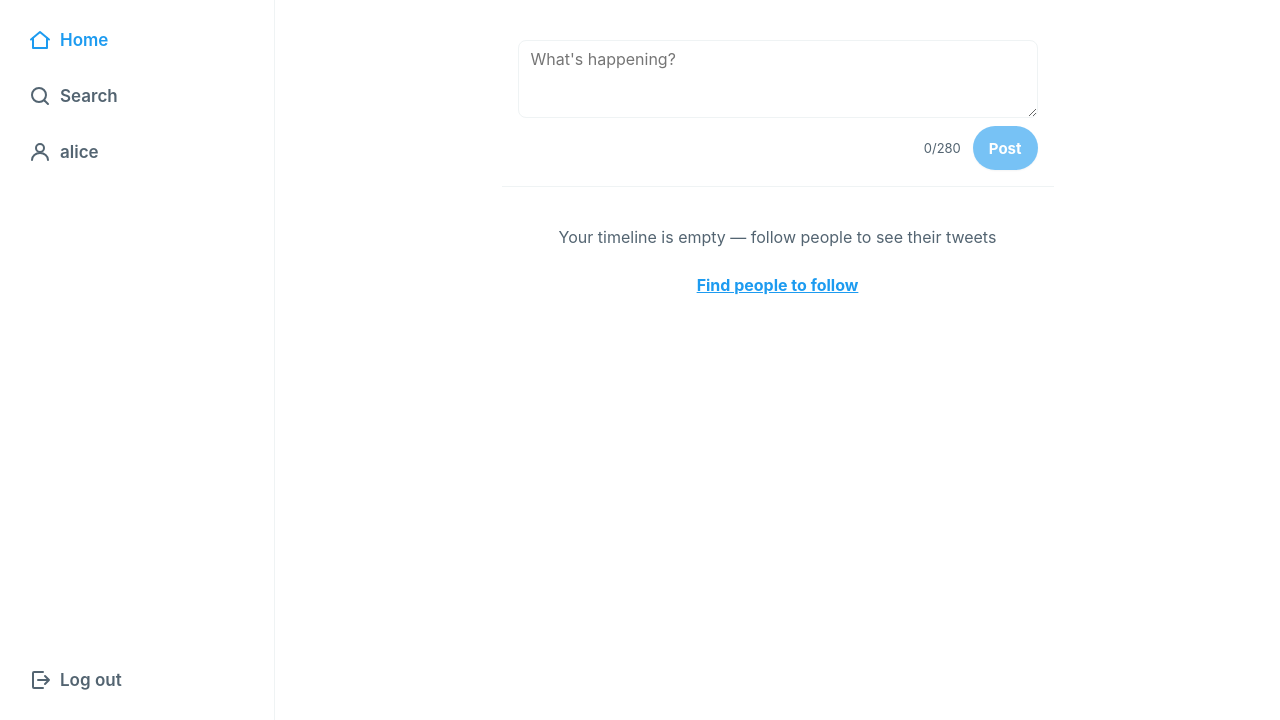
compose tweet › posts a tweet and shows it at the top of the timeline
In the text box named "tweet content": (778, 79) [518, 40, 1038, 118], type "Hello, Flock!"
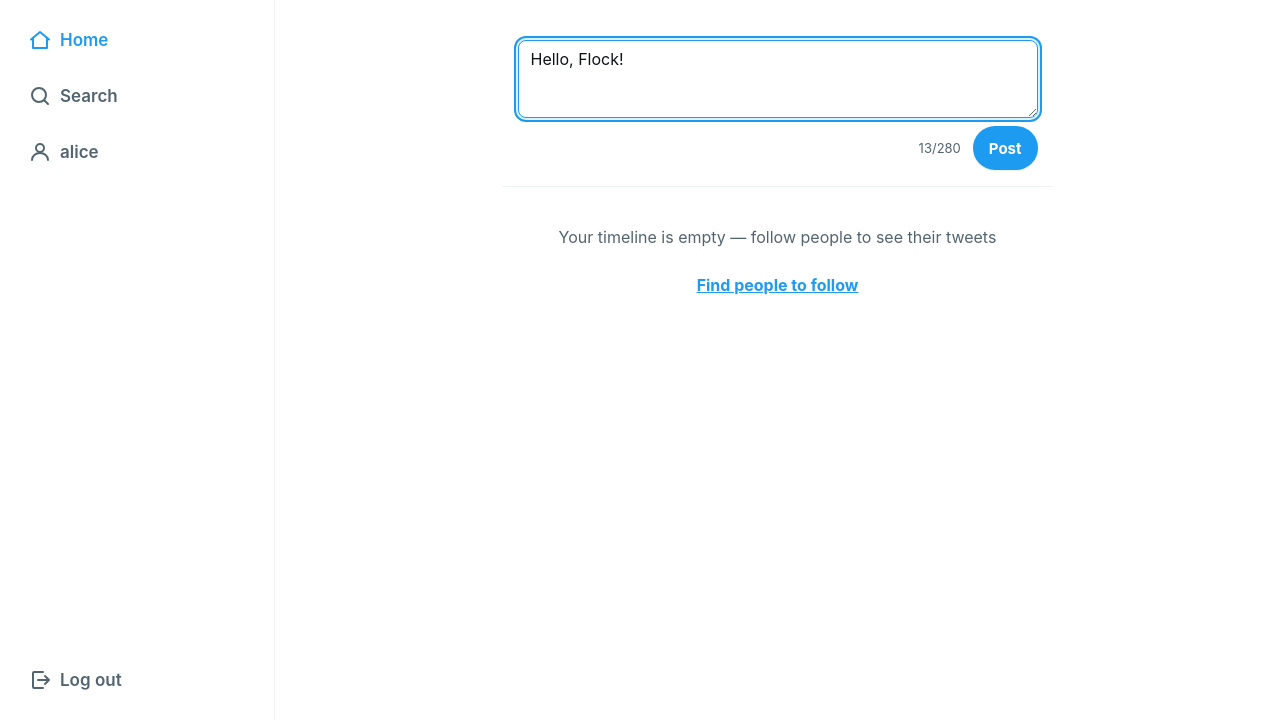
Expected: the text "13/280" is shown, [919, 140, 961, 156]
Click the button "Post": (1005, 148) [973, 126, 1038, 170]
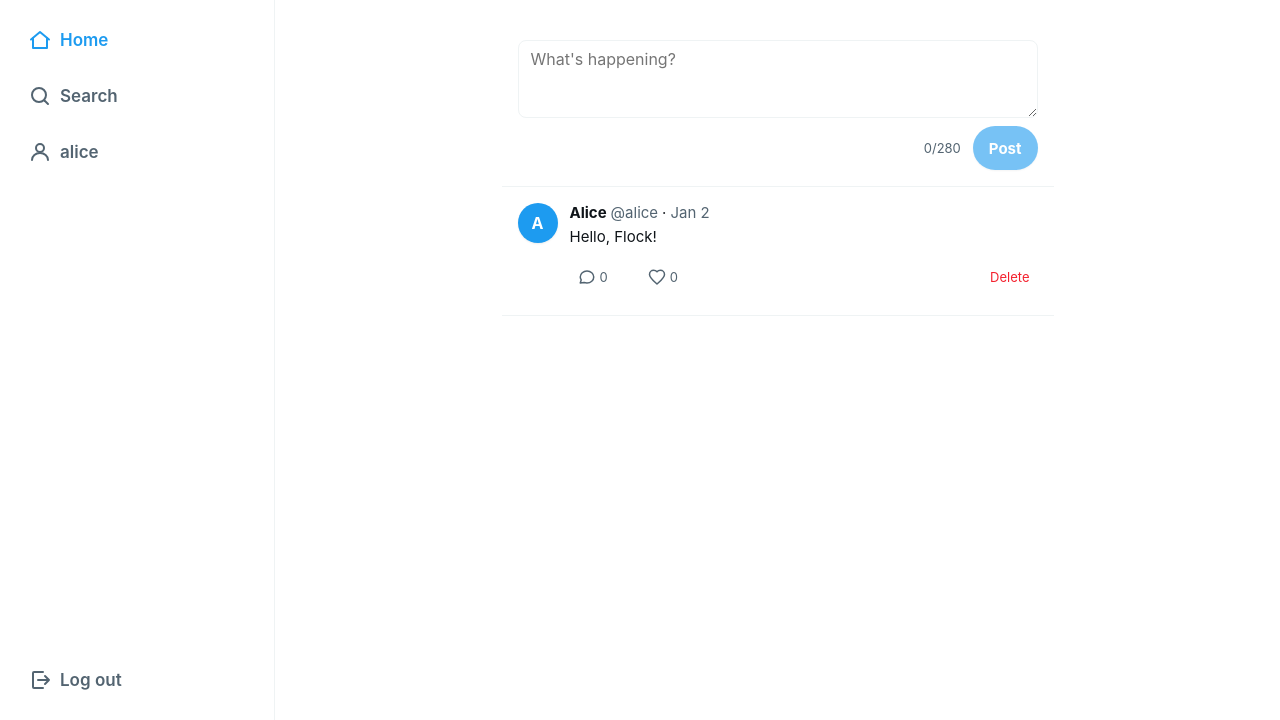
Expected: the text "Hello, Flock!" is shown, [570, 227, 657, 246]
Expected: the text box named "tweet content" is empty, [518, 40, 1038, 118]
